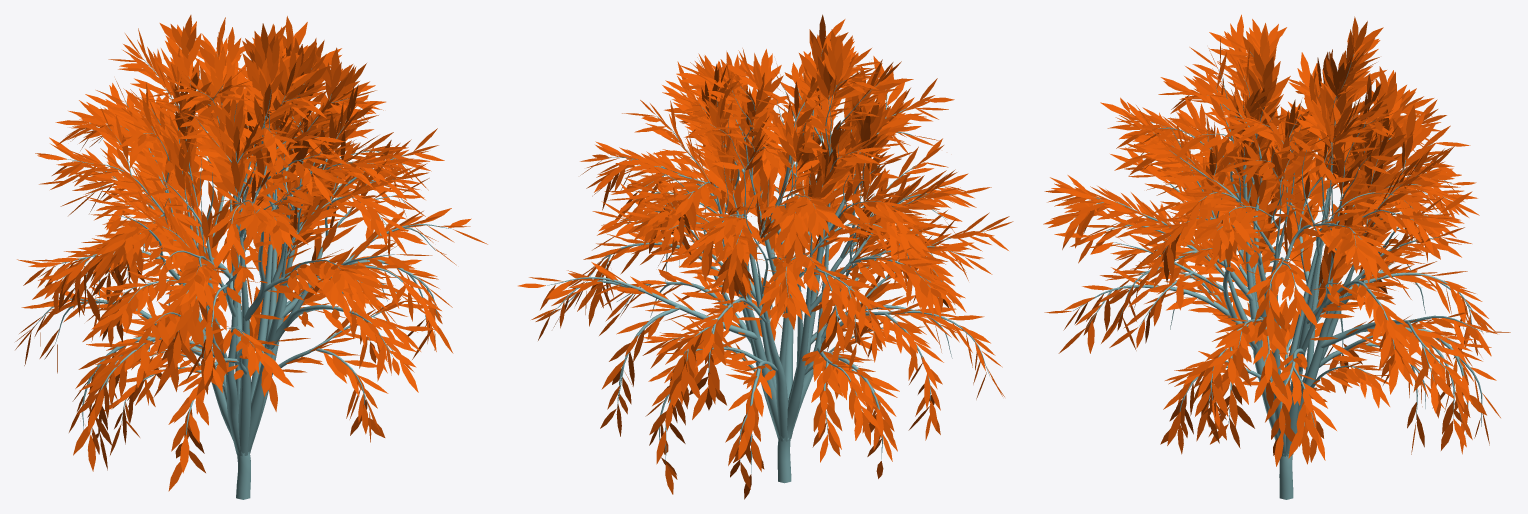
File: tree.glb
3 renders of one model, left to right at view 1: azimuth 30°, elevation 25°; view 2: azimuth 150°, elevation 25°; view 3: azimuth 270°, elevation 25°, orthographic. The views are drawn at different scales.
Parts seen in each view (by area): view 1: leaves, tree; view 2: leaves, tree; view 3: leaves, tree.
Part boxes in pixels (box(x1,y1,x2,y2)): leaves: box(15, 15, 487, 491); tree: box(32, 53, 451, 499); leaves: box(518, 14, 1013, 499); tree: box(547, 49, 989, 483); leaves: box(1043, 14, 1510, 466); tree: box(1073, 52, 1482, 499).
Size of the model in its own units: 3.18 by 3.46 by 3.22.
